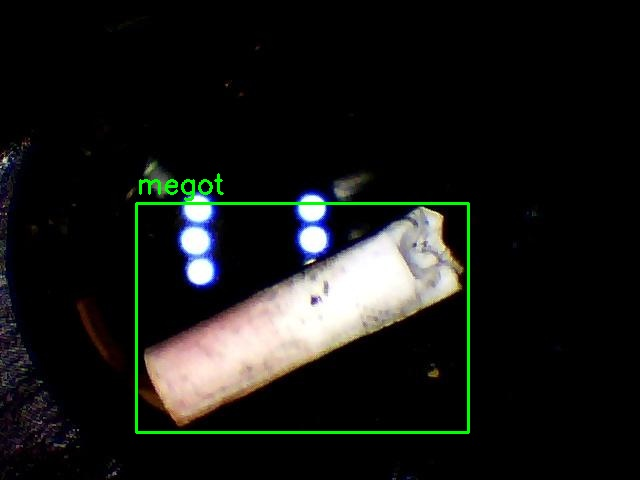megot: (136, 203, 468, 432)
